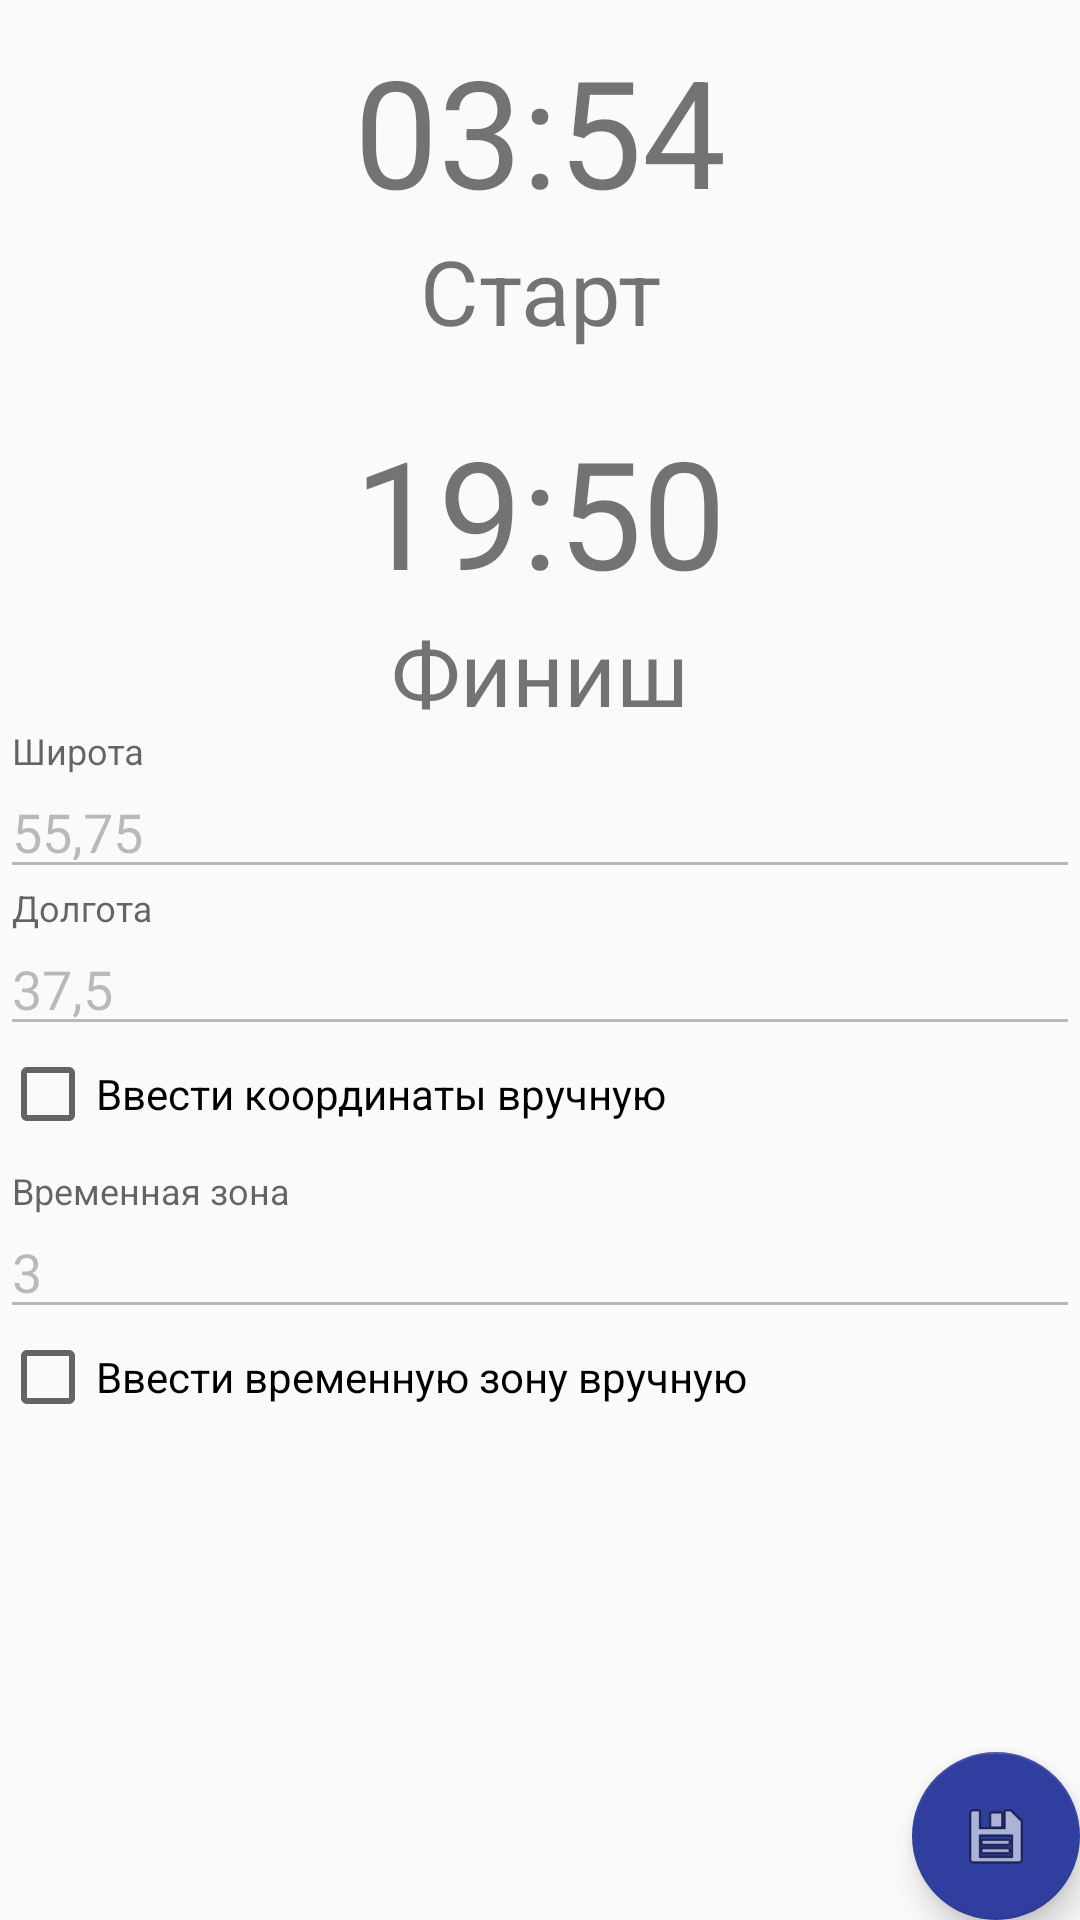

Icon click points for this 1080 × 1920 phone screenshot, format (x,y):
save: (996,1836)
